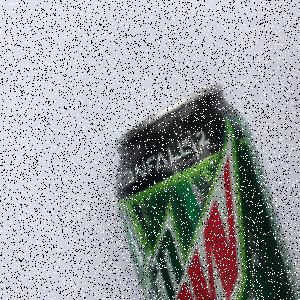Can: (114, 83, 300, 300)
